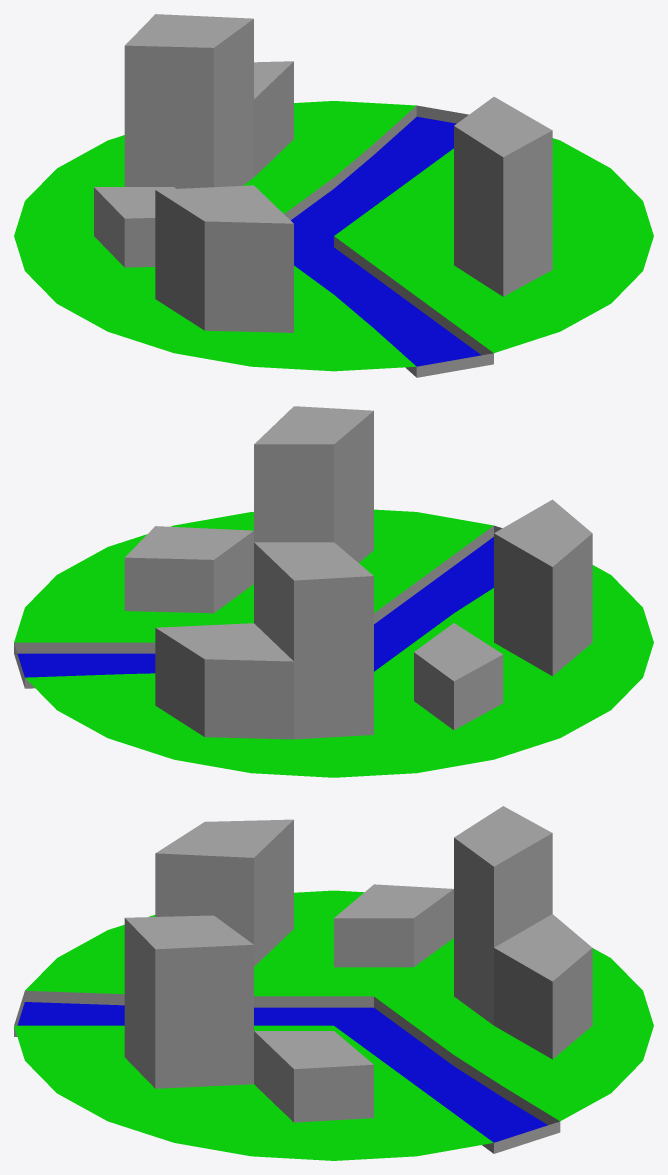
The model's file is DomeCity.fbx.
3 renders of one model, top to bottom at view 1: azimuth 30°, elevation 25°; view 2: azimuth 150°, elevation 25°; view 3: azimuth 270°, elevation 25°, orthographic.
Parts seen in each view (by area): view 1: pDisc1; view 2: pDisc1; view 3: pDisc1.
Boxes of the visible parts, <box> form: pDisc1: <box>14,14,653,377</box>; pDisc1: <box>14,406,653,777</box>; pDisc1: <box>14,806,653,1160</box>.
Bounding box in the file's own units: 2 × 0.5865 × 2.
